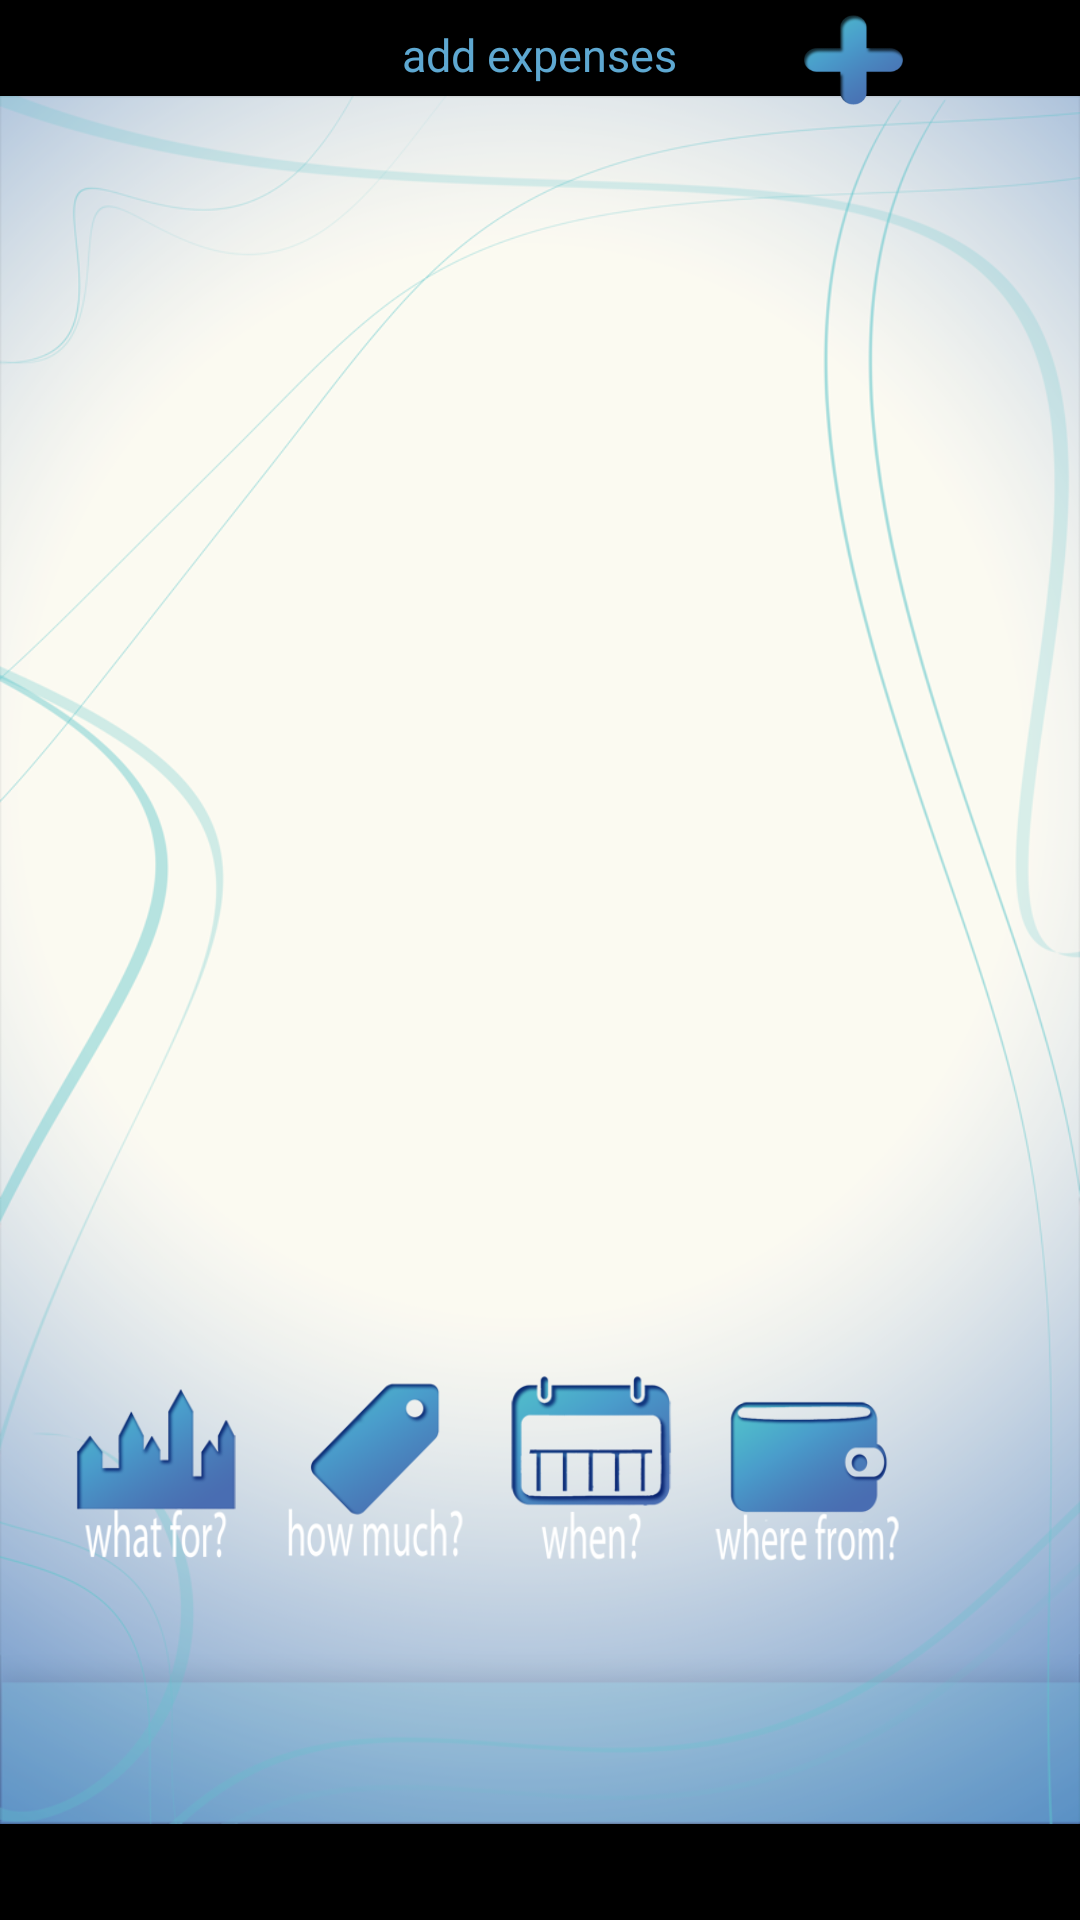

Screen size 1080 x 1920. Icon name, then its center in pixels as (x,y):
plusbuttoneffect: (853,60)
